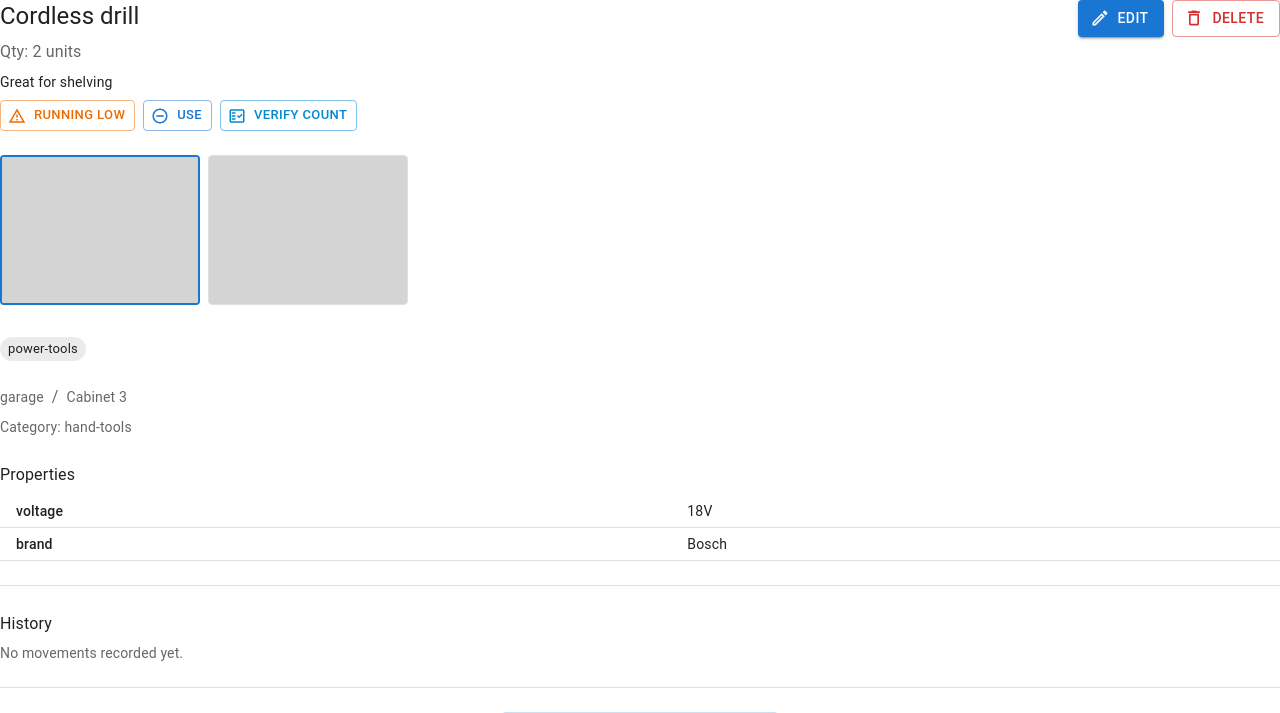
Test: ItemDetailPage › "Verify count" affordance (EVT-27) › tapping "Verify count" opens the blind CountDialog and records the count
Click the button "Verify count": (289, 116) [220,100,357,131]
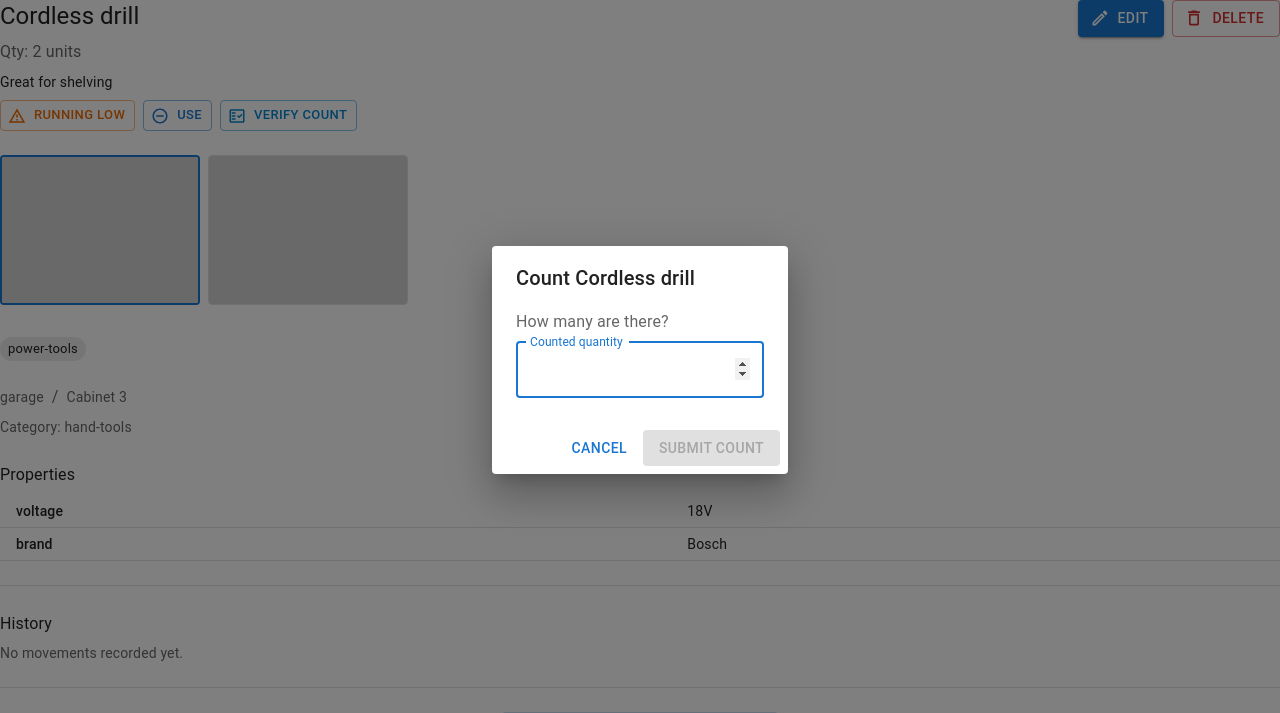
expect the text "book quantity" is not shown: met
expect the text "How many are there?" is shown: met, box [516,312,669,331]
In the number field labelled "Counted quantity": (640, 370) [516,342,764,398], type "4"
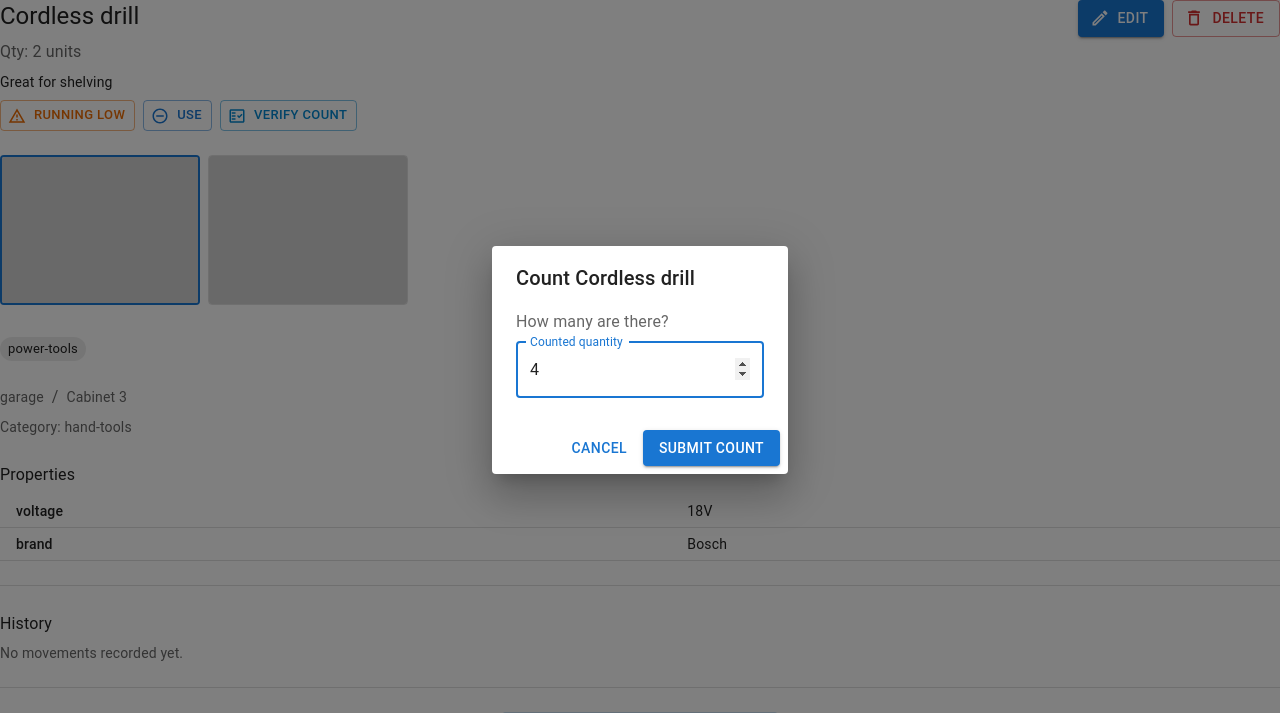
Click the button "Submit count": (712, 448) [643,430,780,466]
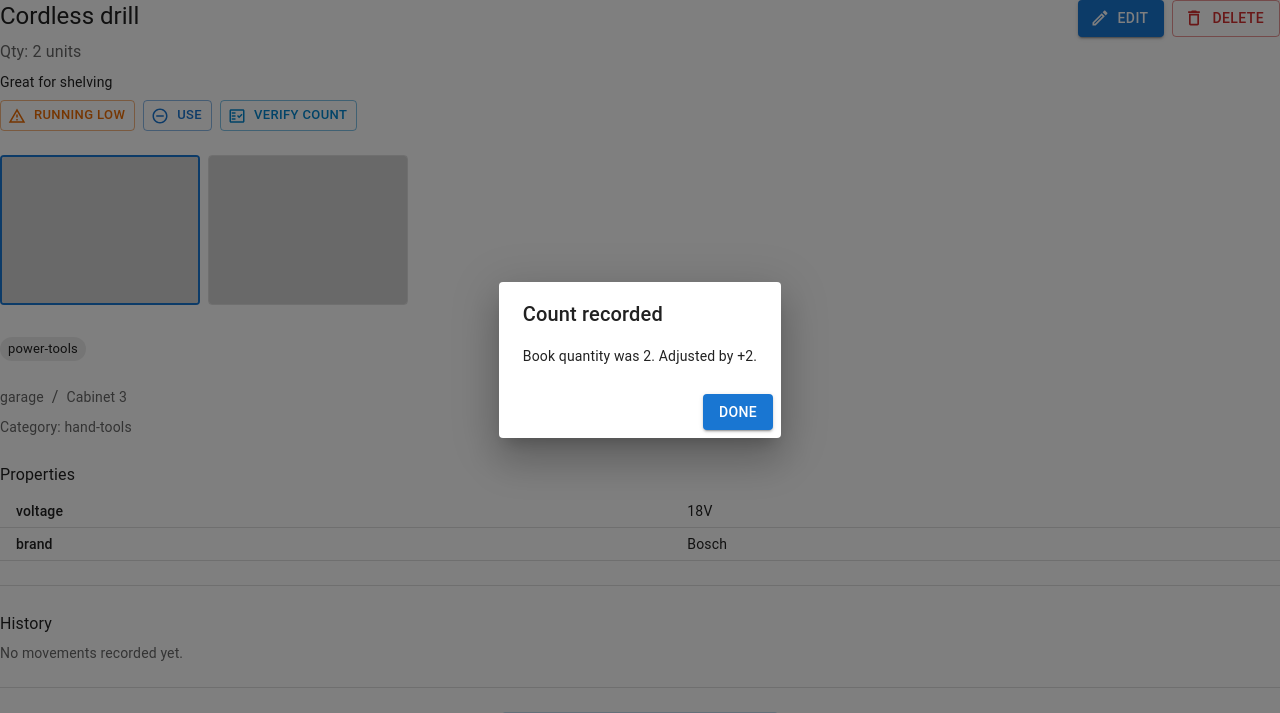
expect the text "Book quantity was 2. Adjusted by +2." is shown: met, box [523,346,757,366]
